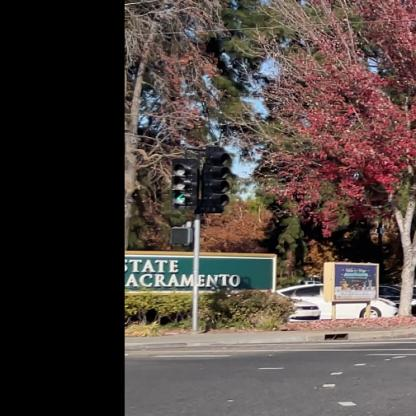left-green: (168, 156, 202, 213)
